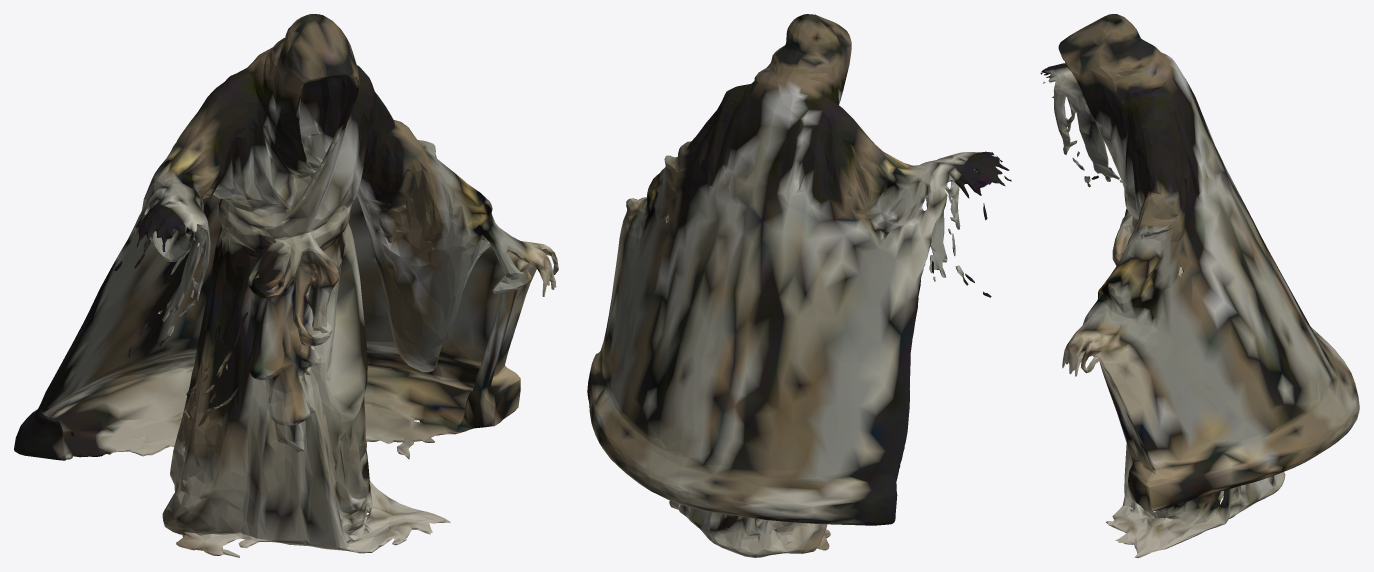
The model's file is darkElemental.glb.
3 views of the same model, side by side, from view 1: azimuth 30°, elevation 25°; view 2: azimuth 150°, elevation 25°; view 3: azimuth 270°, elevation 25° (orthographic). The views are drawn at different scales.
Parts seen in each view (by area): view 1: world; view 2: world; view 3: world.
Part boxes in pixels (x1=…): world: x1=14, y1=14, x2=558, y2=557; world: x1=587, y1=14, x2=1011, y2=557; world: x1=1040, y1=14, x2=1359, y2=557.
Bounding box in the file's own units: 0.8102 × 1 × 0.6044.
